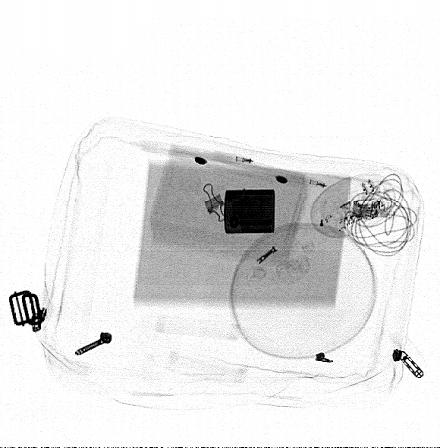Lighter: (223, 189, 276, 235)
